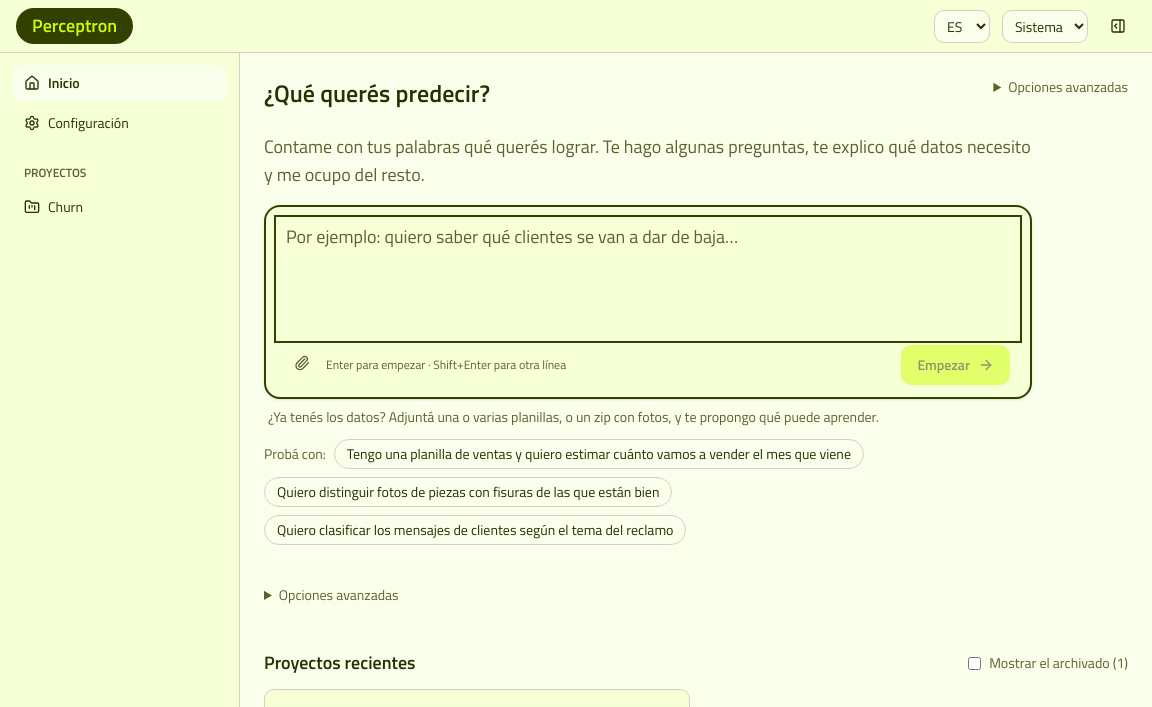
it: ciclo de vida del proyecto (RF-PRJ-01) › los archivados no aparecen salvo que se pidan
Expected: the text "Churn" below "Configuración" is shown, [48,196,83,217]
Expected: the text "Viejo" is not shown
Click the checkbox labelled "Mostrar el archivado (1)".
click(975, 663)  # box [968,656,981,670]
(page scrolled)
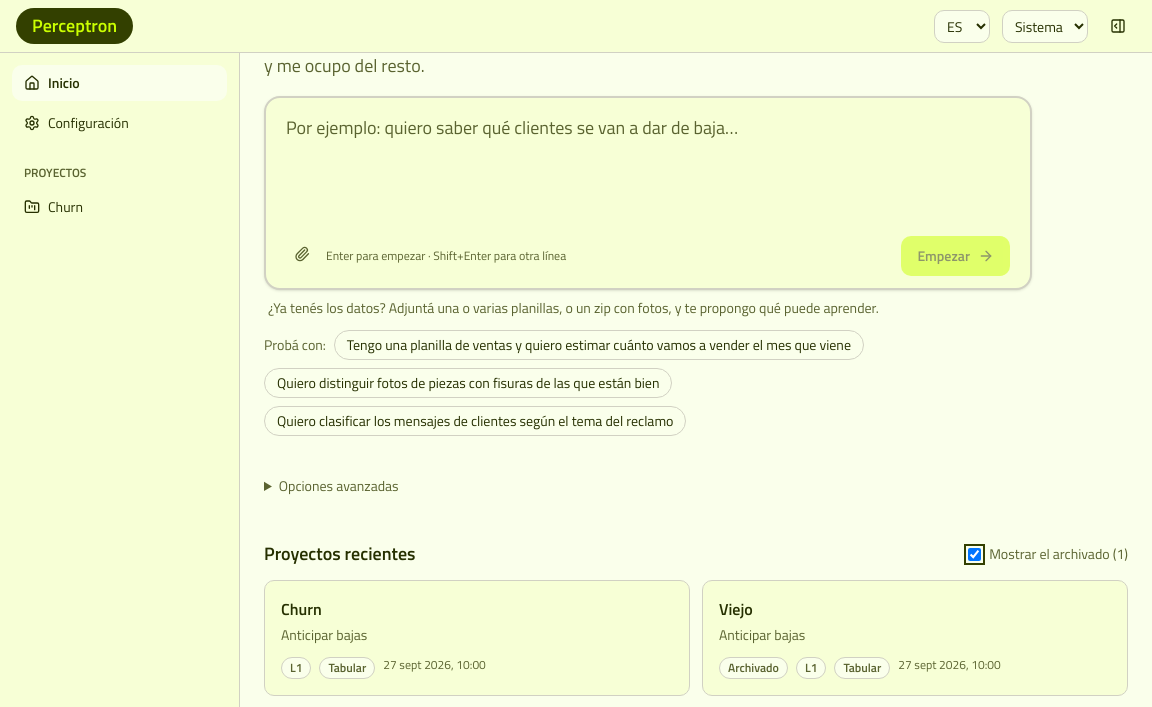
Expected: the text "Viejo" is shown, [719,597,753,621]
